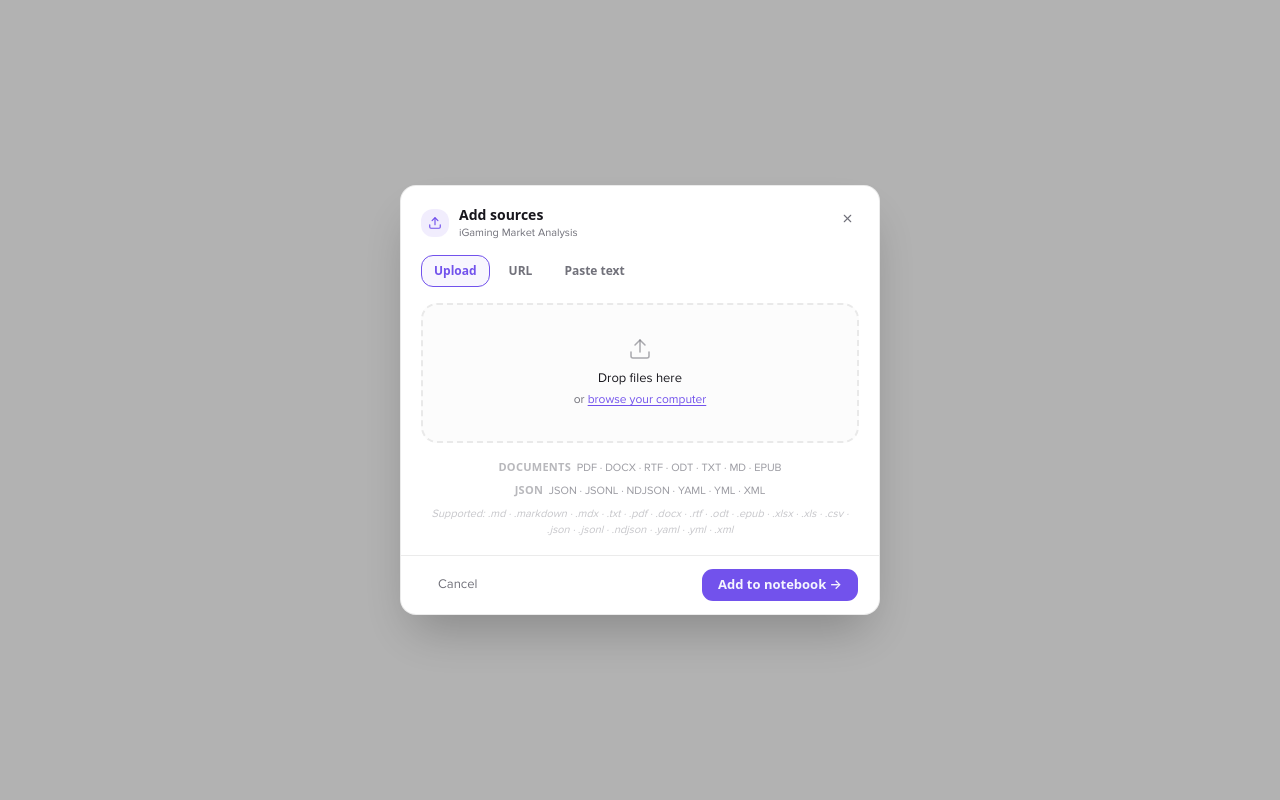
AddSourcesModal › clicking URL tab switches to URL panel
Click the tab "URL" at (520, 271), box [496,255,545,287]
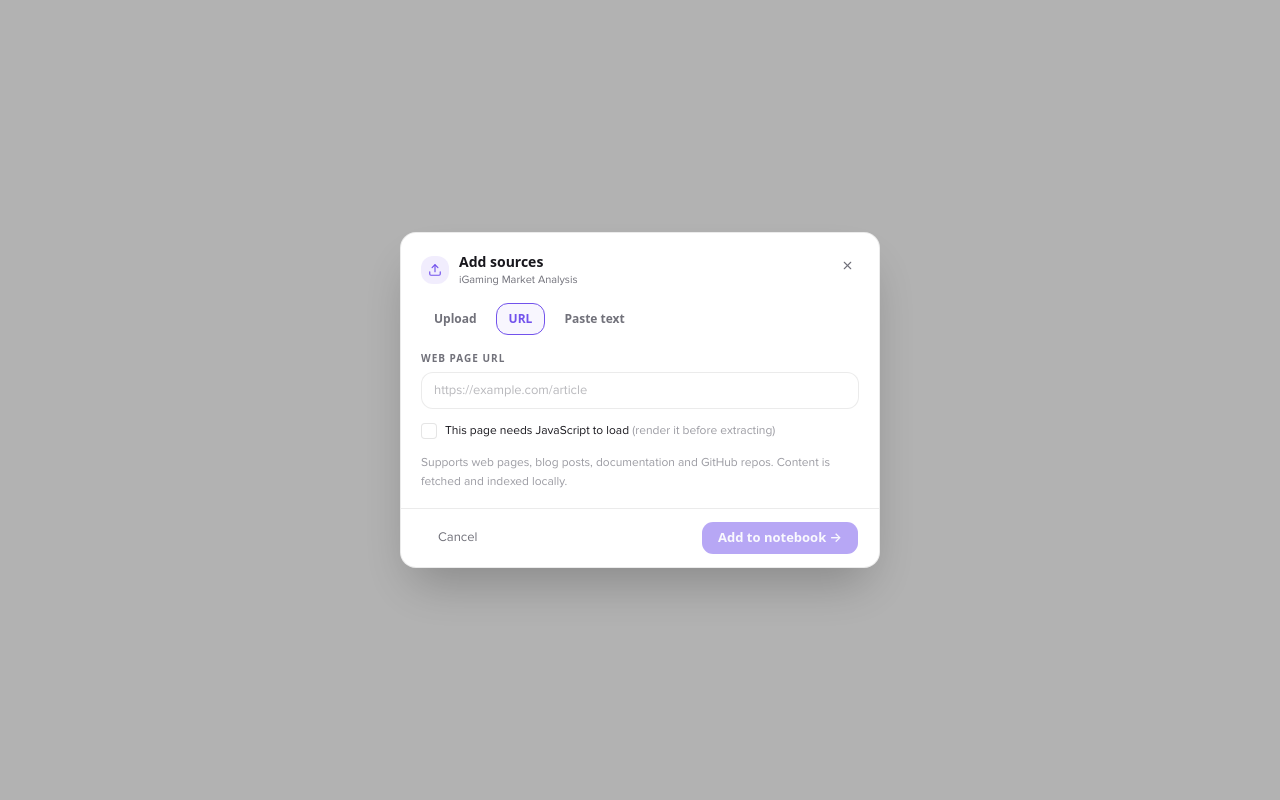
expect the field labelled "Web page URL" is shown: met, box [421,372,859,409]
